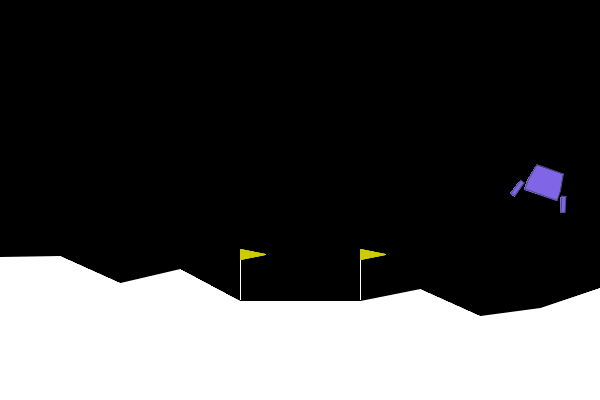lander: (509, 158, 579, 215)
